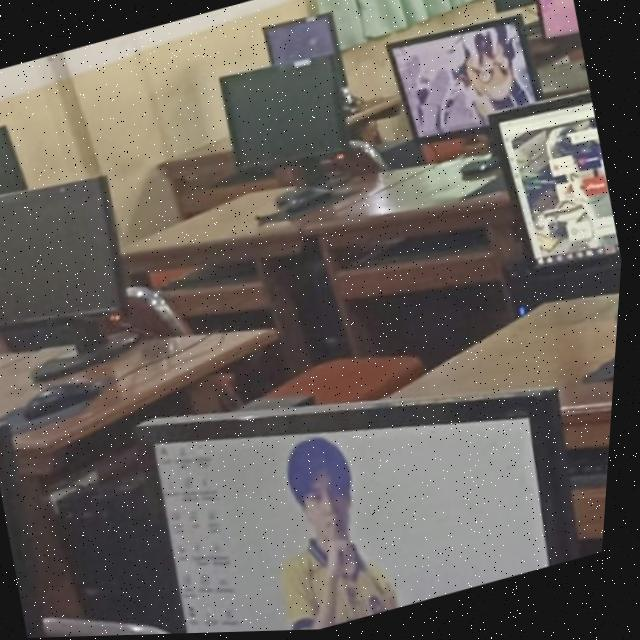offscreen: (0, 178, 128, 328), (222, 59, 348, 170), (263, 14, 338, 66), (0, 126, 29, 193), (494, 0, 535, 14)
onscreen: (144, 393, 587, 635), (497, 100, 621, 268), (388, 21, 539, 142), (538, 0, 578, 39)
